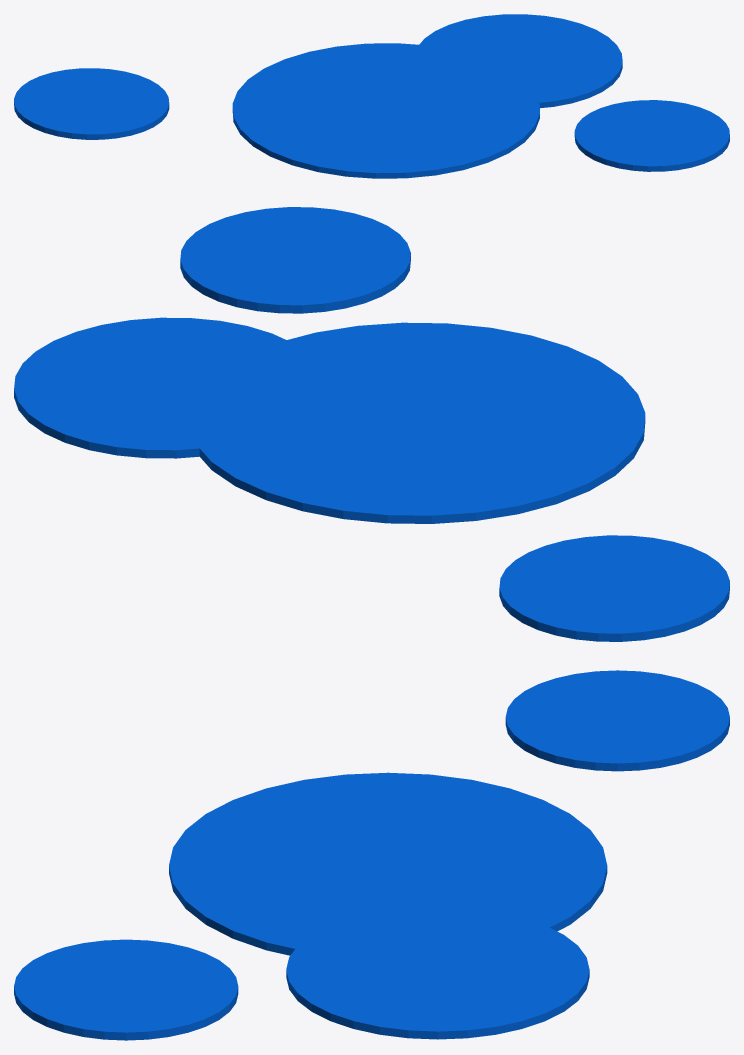
The model's file is paintsplat1.fbx.
The picture shows the model from 3 angles, top to bottom: view 1: azimuth 30°, elevation 25°; view 2: azimuth 150°, elevation 25°; view 3: azimuth 270°, elevation 25°; orthographic projection. The views are drawn at different scales.
Visible parts, largest first — view 1: Cylinder; view 2: Cylinder; view 3: Cylinder.
Part boxes in pixels (left/top/right/bottom): Cylinder: left=14, top=14, right=729, bottom=178; Cylinder: left=14, top=207, right=729, bottom=641; Cylinder: left=14, top=670, right=729, bottom=1040.
Size of the model in its own units: 191 by 1.96 by 160.
